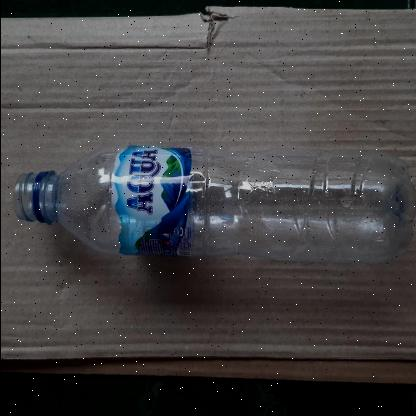Plastic Bottle: (10, 136, 416, 276)
